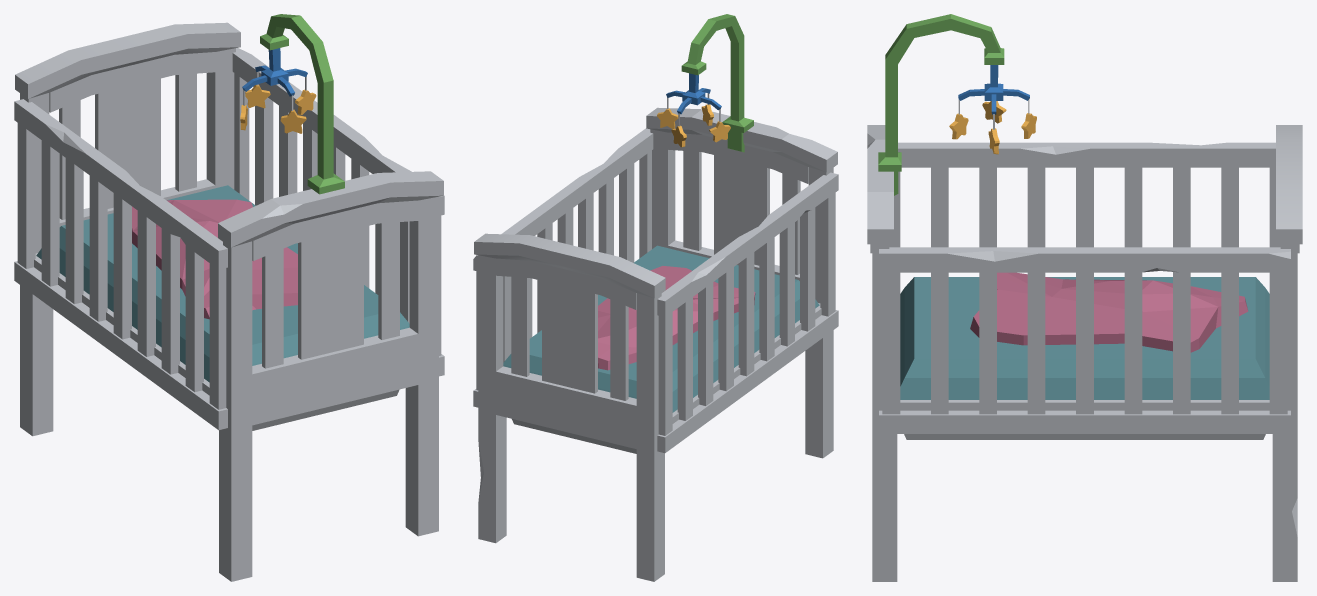
File: SM_Prop_BabyCot_01.fbx
3 views of the same model, side by side, from view 1: azimuth 30°, elevation 25°; view 2: azimuth 150°, elevation 25°; view 3: azimuth 270°, elevation 25° (orthographic). The views are drawn at different scales.
Parts seen in each view (by area): view 1: SM_Prop_BabyCot_01, SM_Prop_BabyCot_Door_01, SM_Prop_BabyCot_Mobile_01; view 2: SM_Prop_BabyCot_01, SM_Prop_BabyCot_Door_01, SM_Prop_BabyCot_Mobile_01; view 3: SM_Prop_BabyCot_01, SM_Prop_BabyCot_Door_01, SM_Prop_BabyCot_Mobile_01.
Part boxes in pixels (x1=…): SM_Prop_BabyCot_01: x1=14, y1=22, x2=443, y2=581; SM_Prop_BabyCot_Door_01: x1=232, y1=48, x2=444, y2=376; SM_Prop_BabyCot_Mobile_01: x1=240, y1=14, x2=344, y2=194; SM_Prop_BabyCot_01: x1=474, y1=107, x2=838, y2=581; SM_Prop_BabyCot_Door_01: x1=473, y1=128, x2=653, y2=407; SM_Prop_BabyCot_Mobile_01: x1=657, y1=14, x2=753, y2=152; SM_Prop_BabyCot_01: x1=867, y1=125, x2=1302, y2=581; SM_Prop_BabyCot_Door_01: x1=879, y1=247, x2=1290, y2=433; SM_Prop_BabyCot_Mobile_01: x1=878, y1=14, x2=1036, y2=195.
Size of the model in its own units: 75.29 by 163 by 125.
